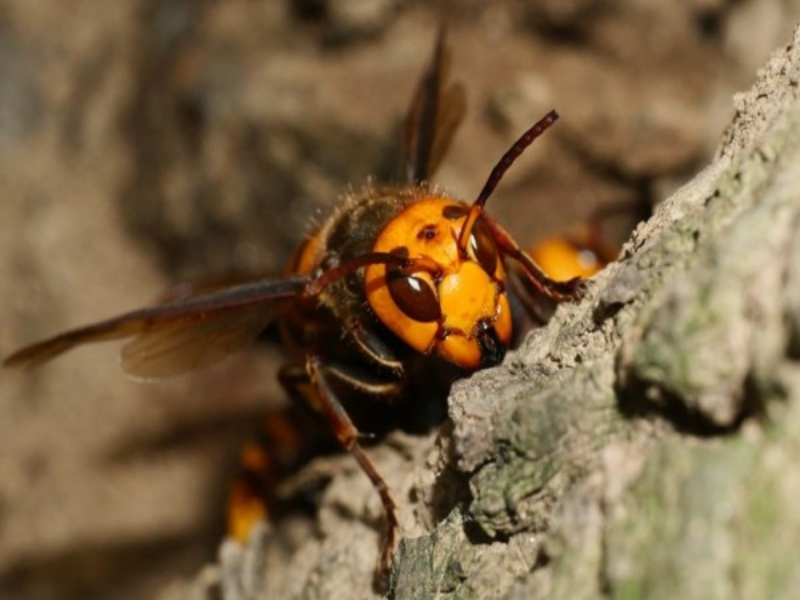asian_giant_hornet: (291, 106, 563, 495)
